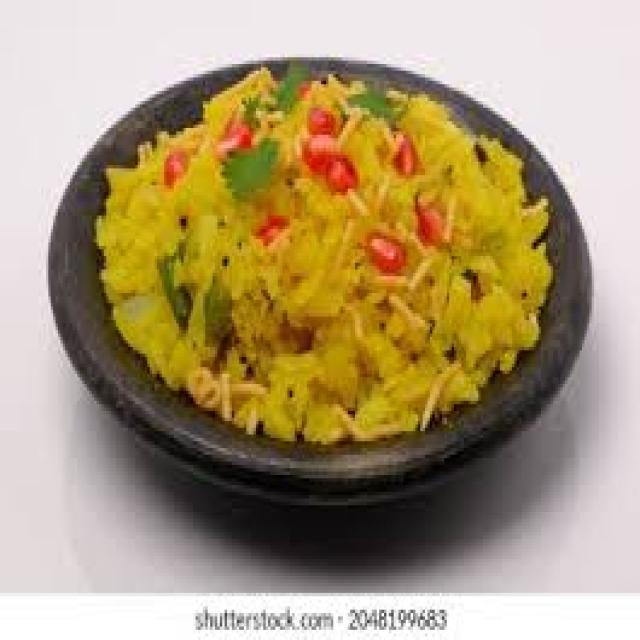POHA: (93, 79, 549, 433)
